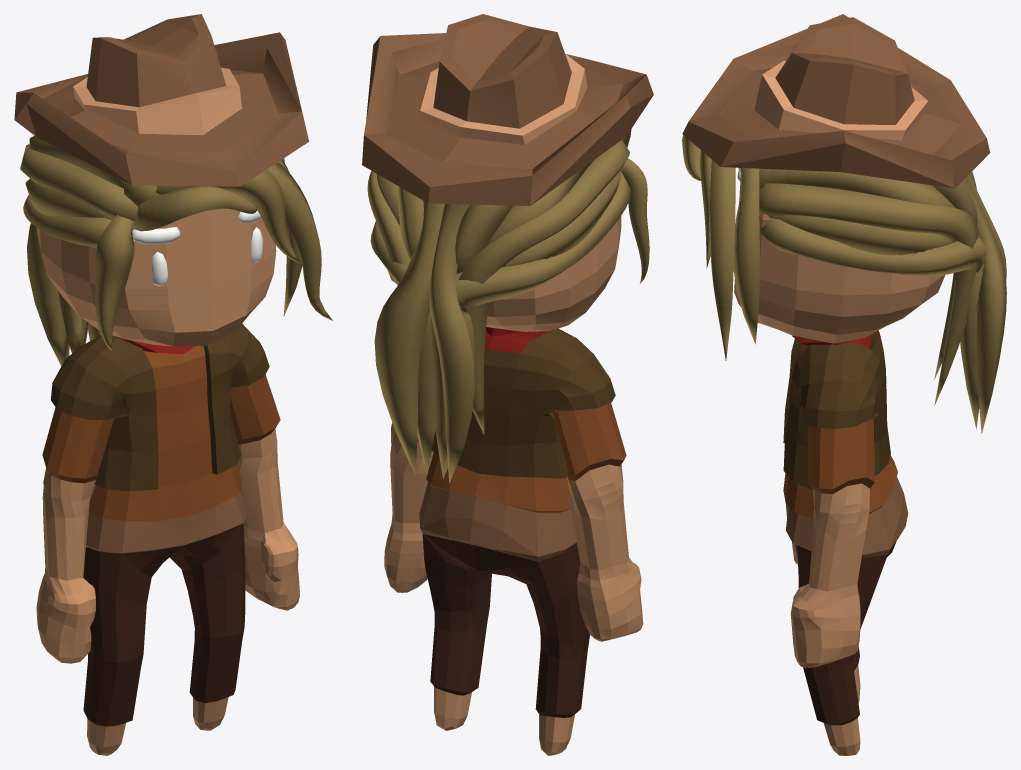
File: debout-cowboy-female.glb
3 renders of one model, left to right at view 1: azimuth 30°, elevation 25°; view 2: azimuth 150°, elevation 25°; view 3: azimuth 270°, elevation 25°, orthographic. The views are drawn at different scales.
Parts seen in each view (by area): view 1: Cube004, Cube004_4, Cube004_8, Cube004_5, Cube004_1, Cube004_2, Cube004_7, Cube004_6; view 2: Cube004_4, Cube004_8, Cube004, Cube004_5, Cube004_2, Cube004_1, Cube004_7, Cube004_3; view 3: Cube004_8, Cube004_4, Cube004, Cube004_2, Cube004_1, Cube004_5, Cube004_7.
Boxes of the visible parts, x1,y1,x2,y2 form: Cube004: (36,198,299,755); Cube004_4: (14,14,308,553); Cube004_8: (20,135,332,365); Cube004_5: (83,523,245,726); Cube004_1: (42,346,280,521); Cube004_2: (50,323,269,491); Cube004_7: (73,67,241,135); Cube004_6: (132,210,263,286); Cube004_4: (362,14,653,561); Cube004_8: (367,129,649,483); Cube004: (384,216,643,755); Cube004_5: (422,534,589,717); Cube004_2: (432,328,615,478); Cube004_1: (417,403,626,512); Cube004_7: (420,54,587,144); Cube004_3: (484,327,552,353); Cube004_8: (682,135,1006,433); Cube004_4: (682,14,990,558); Cube004: (734,175,945,755); Cube004_2: (783,330,890,489); Cube004_1: (783,343,897,518); Cube004_5: (795,542,895,725); Cube004_7: (754,61,928,140).
Size of the model in its own units: 0.6359 by 1.67 by 0.7112.
